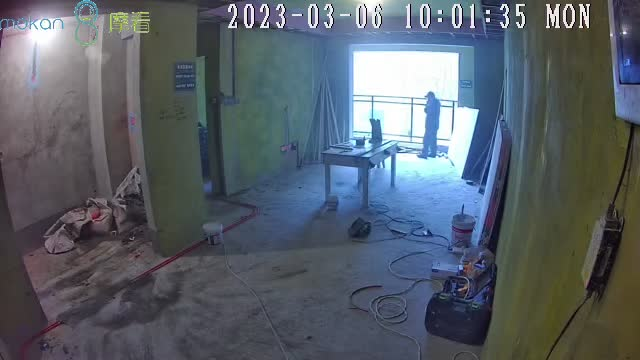people: (417, 91, 441, 160)
window: (352, 50, 460, 147)
